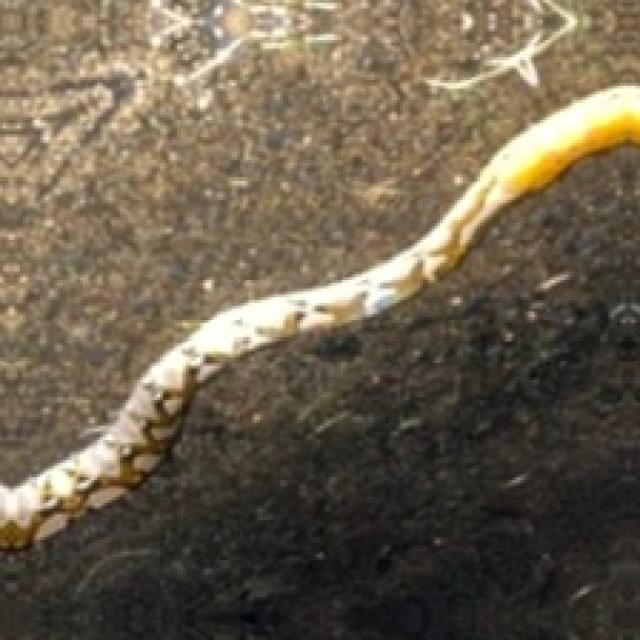reticulated python: (0, 86, 637, 549)
